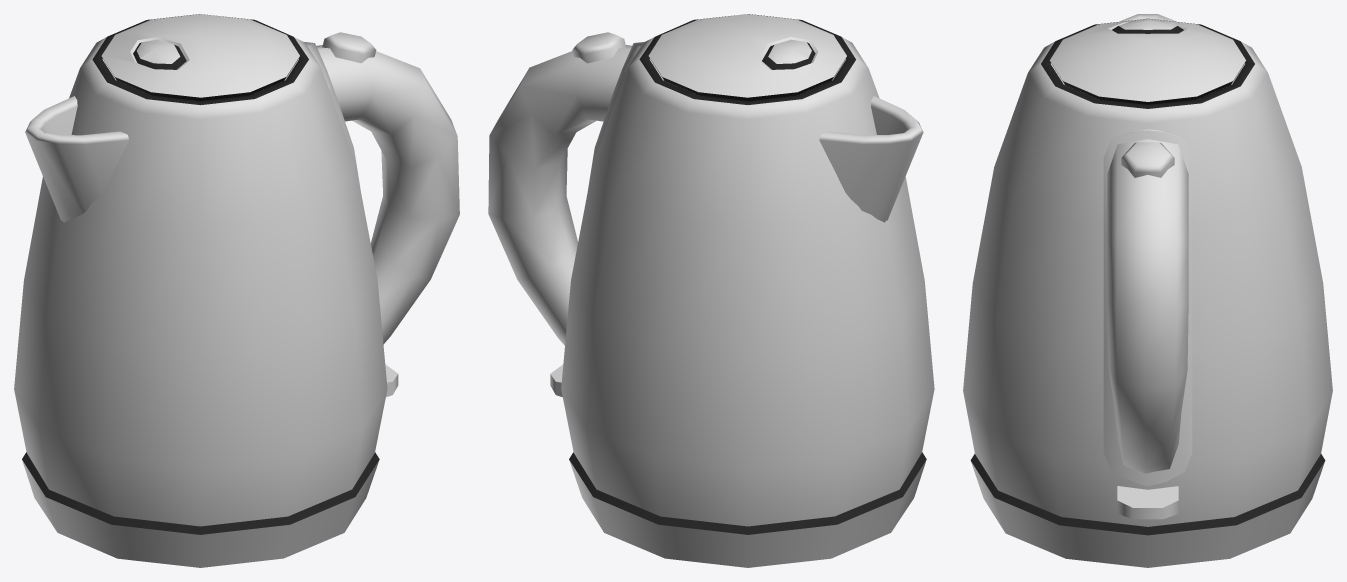
File: electronics_023.fbx
3 renders of one model, left to right at view 1: azimuth 30°, elevation 25°; view 2: azimuth 150°, elevation 25°; view 3: azimuth 270°, elevation 25°, orthographic.
Parts seen in each view (by area): view 1: electronics_023; view 2: electronics_023; view 3: electronics_023.
Part boxes in pixels (x1,y1,x2,y2): electronics_023: (14, 14, 459, 567); electronics_023: (488, 14, 934, 567); electronics_023: (963, 14, 1332, 567).
Bounding box in the file's own units: 39.3 × 30.11 × 41.17.
